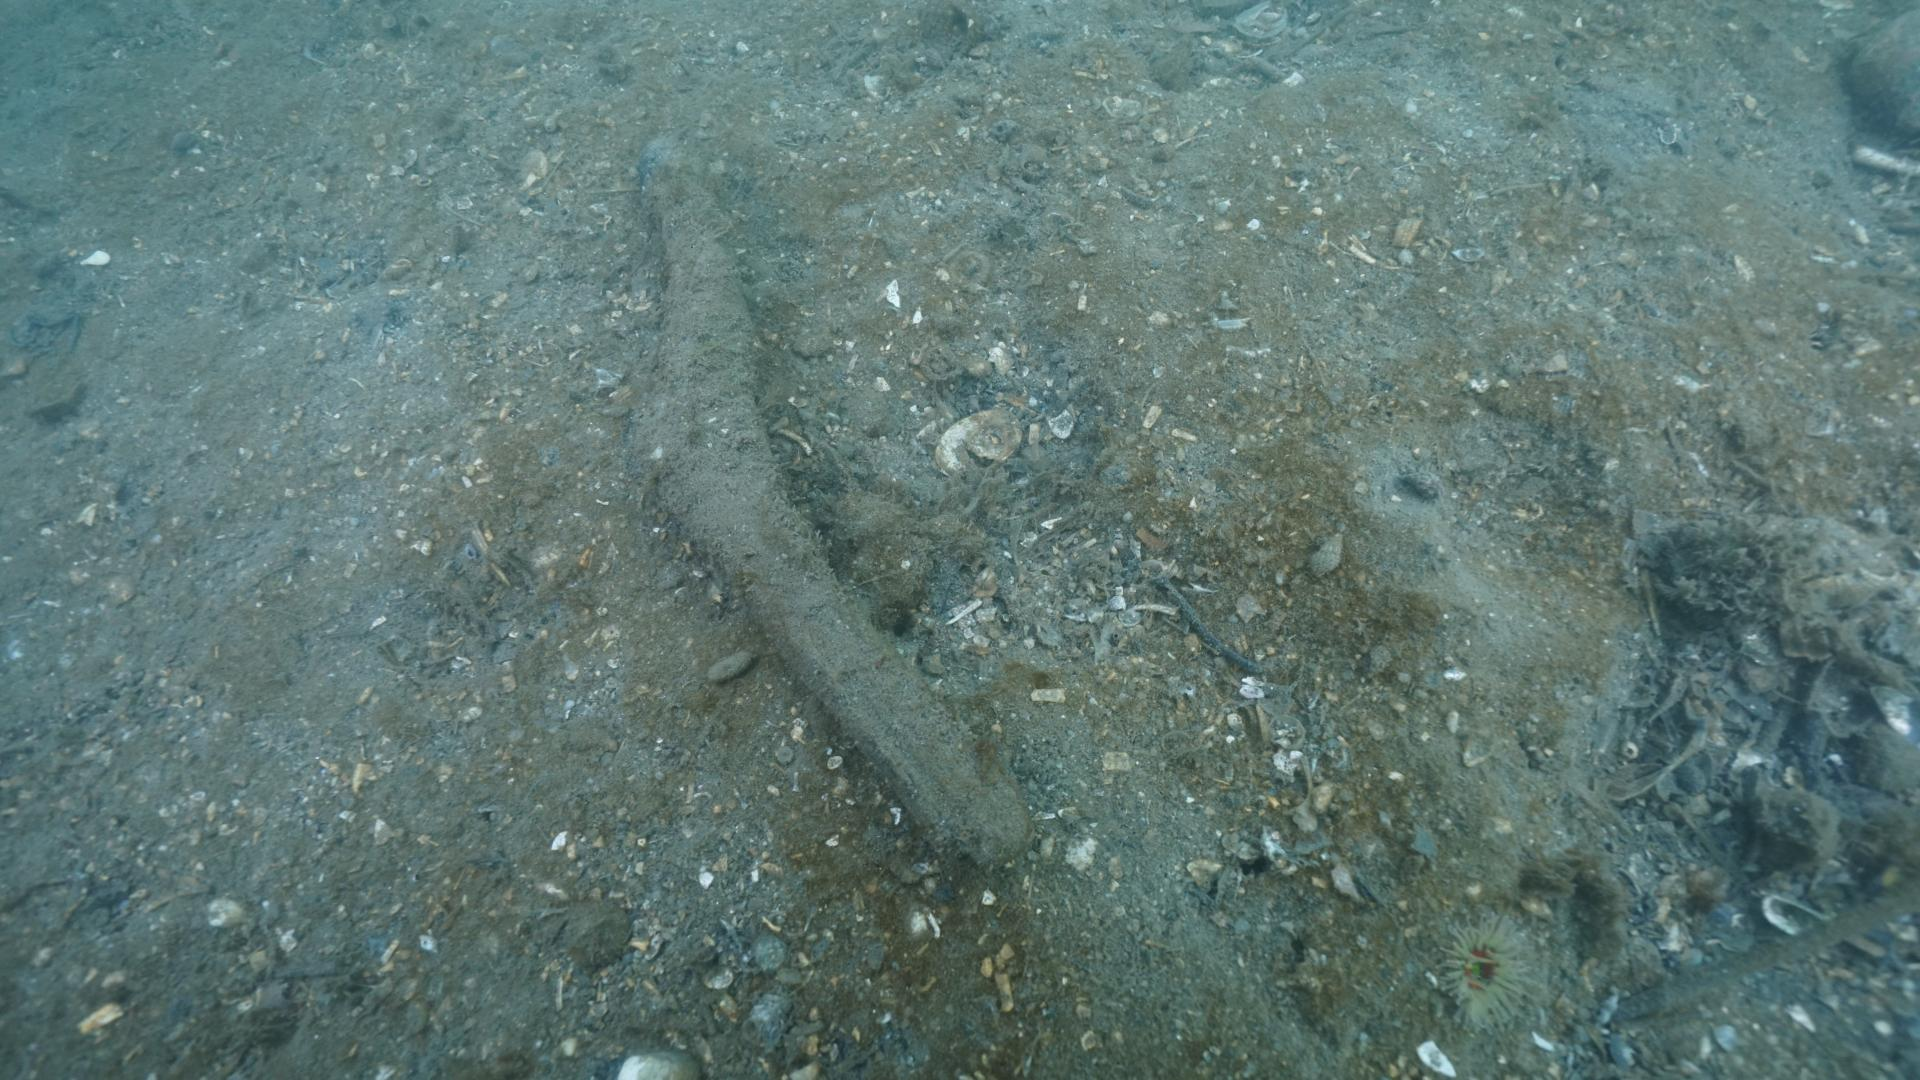wood: (611, 133, 1036, 872)
